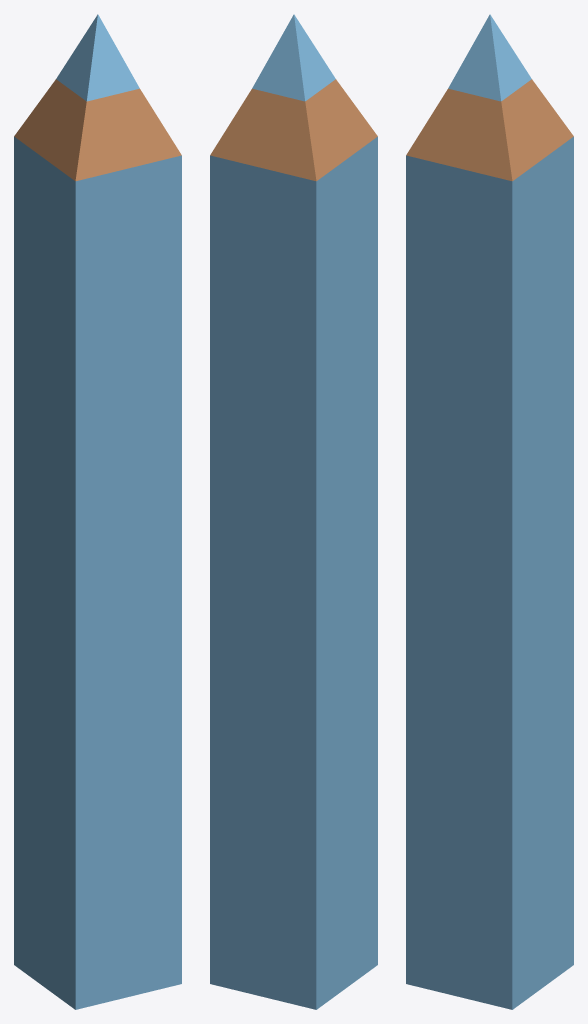
The model's file is skybluepencil.fbx.
3 views of the same model, side by side, from view 1: azimuth 30°, elevation 25°; view 2: azimuth 150°, elevation 25°; view 3: azimuth 330°, elevation 25° (orthographic).
Visible parts, largest first — view 1: pCube1; view 2: pCube1; view 3: pCube1.
Boxes of the visible parts, bbox=[...] form: pCube1: bbox=[14, 14, 181, 1009]; pCube1: bbox=[210, 14, 377, 1009]; pCube1: bbox=[406, 14, 573, 1009].
Bounding box in the file's own units: 1 × 8.62 × 1.
